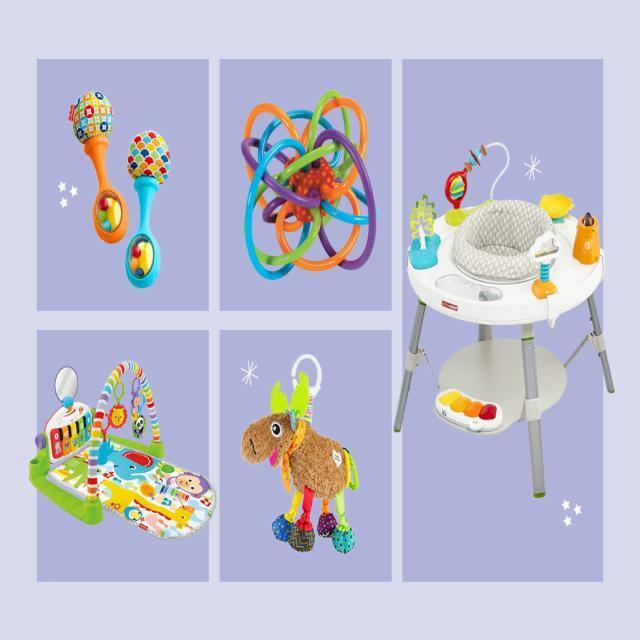hard-toy: (242, 91, 376, 280), (70, 92, 130, 244), (126, 131, 171, 289)
soft-toy: (242, 359, 359, 554)
